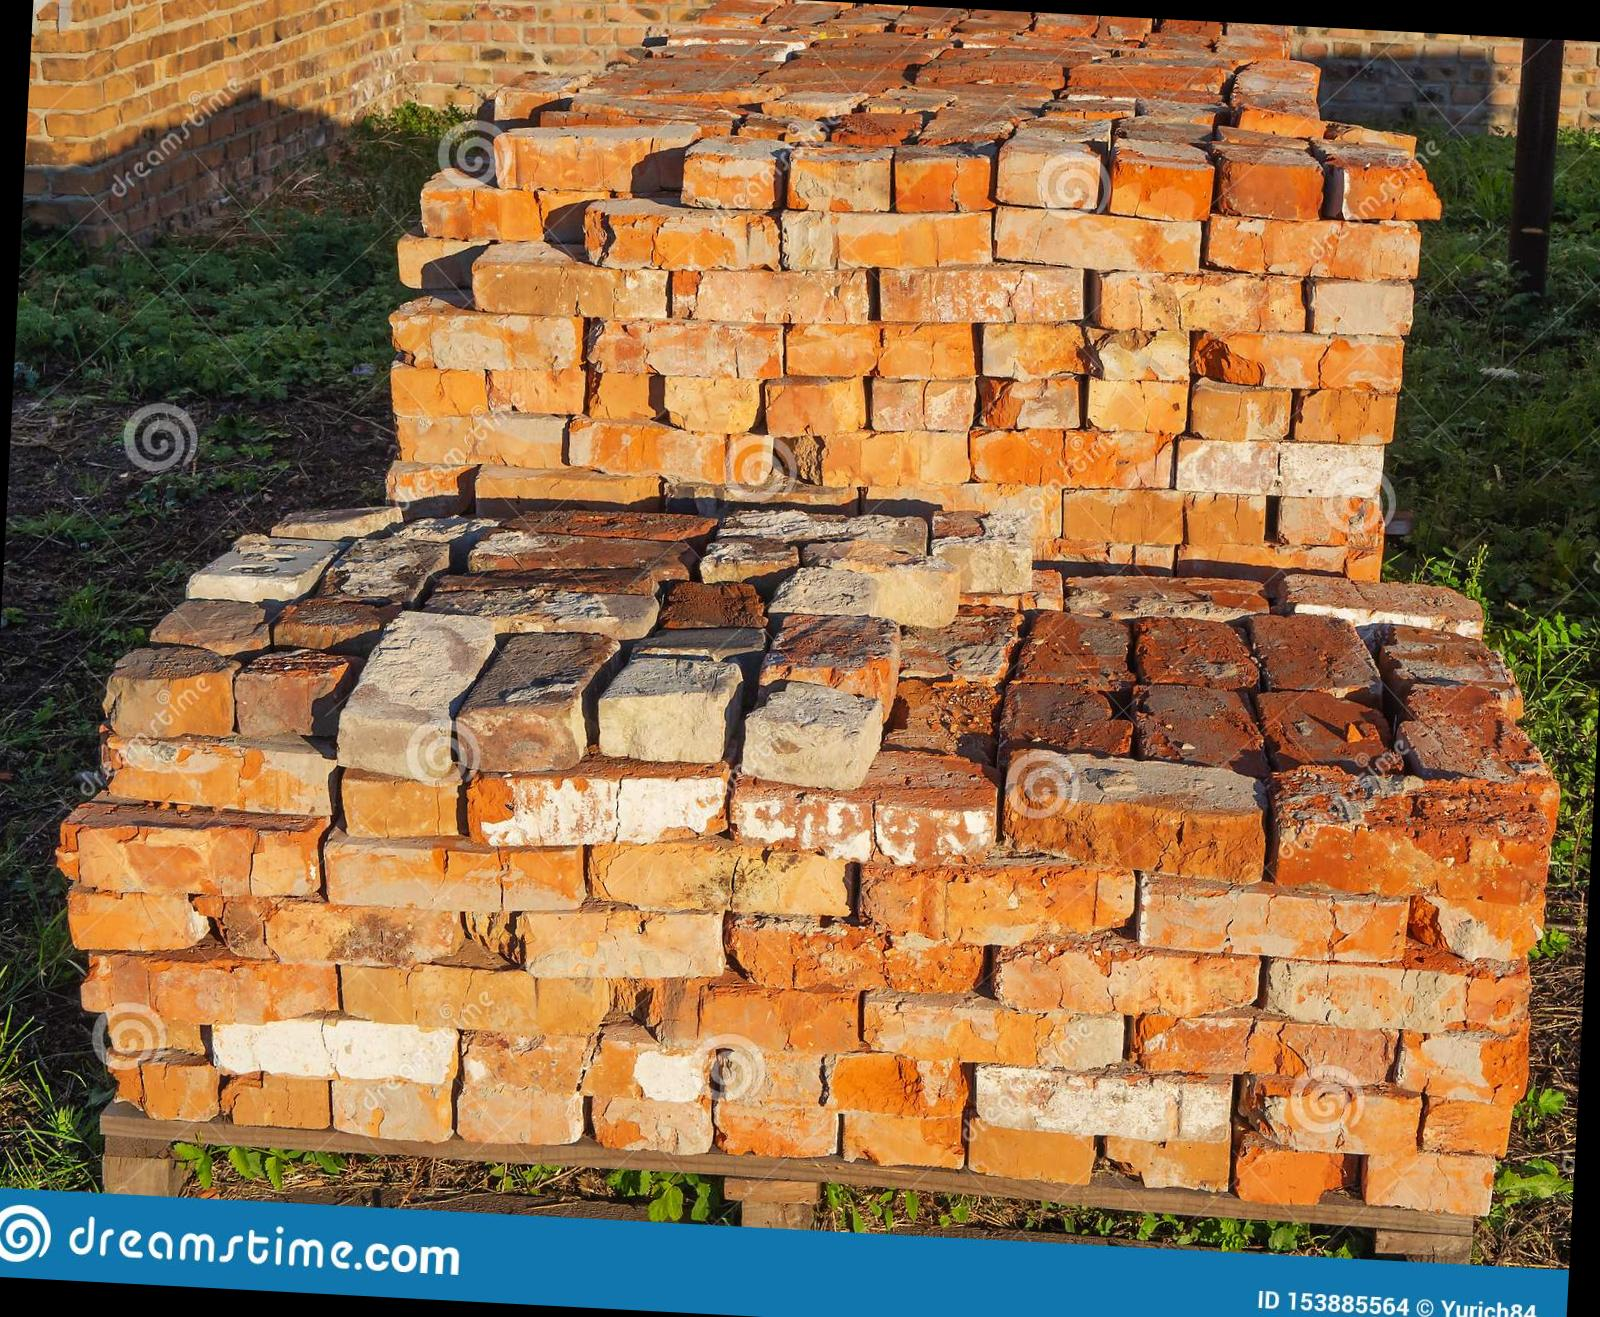brick: (1002, 785, 1266, 884), (858, 853, 1136, 945), (1276, 819, 1553, 908), (465, 761, 730, 855), (53, 816, 324, 902), (1139, 878, 1410, 963), (993, 940, 1261, 1022), (730, 787, 997, 869), (587, 836, 854, 917), (723, 913, 985, 995), (1265, 958, 1531, 1038), (338, 961, 611, 1038), (191, 897, 466, 971), (323, 839, 586, 916), (974, 1064, 1232, 1142), (1130, 1013, 1401, 1086), (97, 734, 336, 816), (862, 999, 1126, 1071), (80, 952, 340, 1022), (209, 1013, 461, 1084), (462, 1031, 715, 1102), (723, 1046, 969, 1116), (520, 902, 726, 985), (780, 201, 994, 279), (878, 259, 1087, 330), (1100, 267, 1308, 338), (1207, 213, 1422, 280), (969, 421, 1173, 492), (656, 982, 860, 1053), (994, 206, 1203, 274), (582, 205, 783, 272), (385, 306, 583, 373), (1177, 435, 1383, 500), (671, 259, 872, 326), (490, 128, 683, 197), (1237, 1084, 1422, 1156), (587, 314, 787, 380), (419, 181, 611, 249), (1192, 331, 1405, 392), (785, 315, 977, 383), (1063, 485, 1266, 548), (470, 259, 668, 320), (102, 662, 237, 742), (566, 417, 727, 484), (821, 424, 973, 493), (597, 684, 727, 764), (66, 886, 211, 956), (1395, 1030, 1530, 1103), (395, 411, 565, 468), (456, 699, 583, 775), (1410, 894, 1544, 963), (742, 718, 860, 789), (328, 1078, 457, 1143), (969, 1119, 1098, 1184), (1366, 1151, 1496, 1215), (104, 1054, 222, 1122), (454, 1087, 585, 1148), (340, 775, 462, 840), (589, 1095, 715, 1155), (338, 715, 453, 780), (843, 1110, 966, 1169), (1102, 1135, 1231, 1192), (714, 1100, 839, 1159), (764, 372, 869, 441), (995, 145, 1100, 210), (982, 318, 1088, 381), (221, 1068, 331, 1130), (1235, 1146, 1344, 1207), (1220, 159, 1325, 222), (893, 152, 997, 214), (870, 375, 975, 436), (1111, 158, 1213, 221), (787, 154, 893, 214), (1191, 383, 1293, 443), (1086, 327, 1192, 384), (977, 373, 1083, 431), (1312, 279, 1414, 338), (679, 149, 776, 210), (1344, 163, 1442, 223), (1296, 387, 1397, 444), (1087, 377, 1188, 433), (234, 671, 315, 740), (663, 376, 760, 433), (1422, 1098, 1514, 1158), (389, 364, 488, 417), (1278, 494, 1378, 546), (485, 365, 585, 416), (587, 369, 658, 420)
